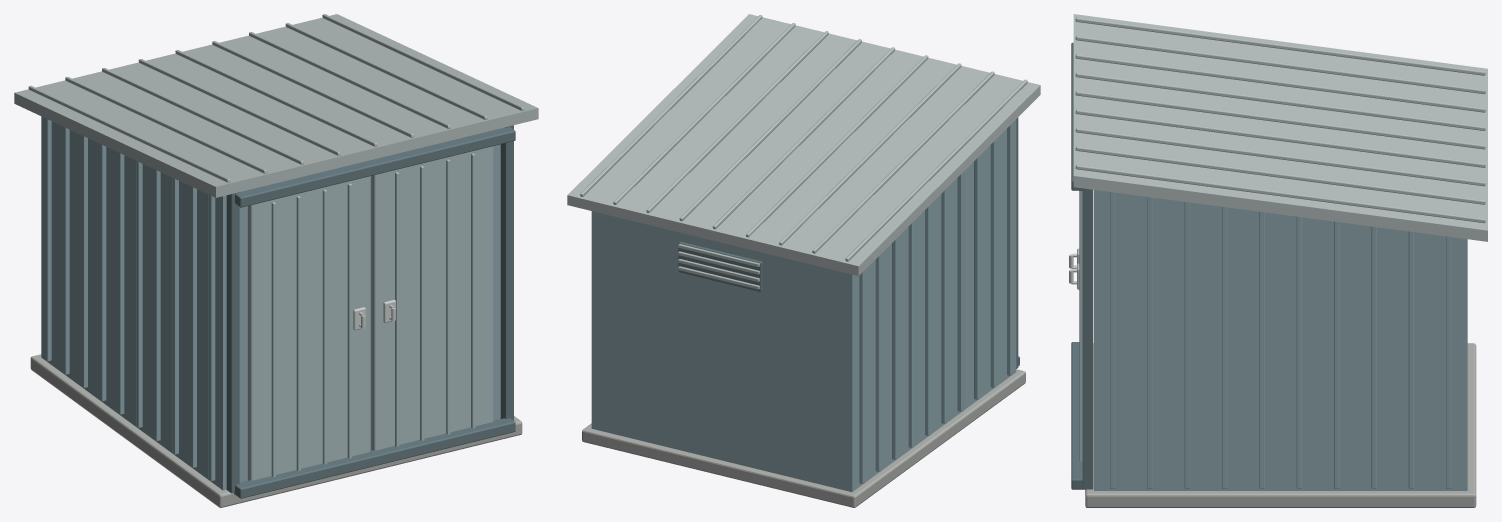
Rendered from shed_metal_pent_roof.glb.
3 views of the same model, side by side, from view 1: azimuth 30°, elevation 25°; view 2: azimuth 150°, elevation 25°; view 3: azimuth 270°, elevation 25° (orthographic). The views are drawn at different scales.
Visible parts, largest first — view 1: Single slope metal roof, Pent-roof shed walls, Sliding door panel.001, Sliding door panel, Compact base slab, Sliding door track.001, Sliding door track, Front corner trim, Front corner trim.001, Metal wall reinforcing rib, Metal wall reinforcing rib.006, Metal wall reinforcing rib.001 (+24 smaller); view 2: Pent-roof shed walls, Single slope metal roof, Compact base slab, Metal wall reinforcing rib.001, Metal wall reinforcing rib.003, Metal wall reinforcing rib.006, Rear high vent, Metal wall reinforcing rib.008, Metal wall reinforcing rib, Metal wall reinforcing rib.002, Metal wall reinforcing rib.004, Metal wall reinforcing rib.005 (+12 smaller); view 3: Pent-roof shed walls, Single slope metal roof, Compact base slab, Front corner trim.001, Standing roof seam.001, Standing roof seam.008, Standing roof seam.003, Standing roof seam.005, Standing roof seam.007, Standing roof seam, Standing roof seam.004, Standing roof seam.006 (+14 smaller).
Part boxes in pixels (left/top/right/bottom): Single slope metal roof: left=14, top=14, right=538, bottom=197; Pent-roof shed walls: left=41, top=116, right=500, bottom=490; Sliding door panel.001: left=371, top=146, right=493, bottom=450; Sliding door panel: left=247, top=176, right=369, bottom=480; Compact base slab: left=30, top=354, right=522, bottom=507; Sliding door track.001: left=235, top=127, right=515, bottom=207; Sliding door track: left=234, top=418, right=515, bottom=498; Front corner trim: left=226, top=192, right=239, bottom=493; Front corner trim.001: left=500, top=125, right=513, bottom=420; Metal wall reinforcing rib: left=208, top=195, right=215, bottom=481; Metal wall reinforcing rib.006: left=99, top=144, right=106, bottom=401; Metal wall reinforcing rib.001: left=190, top=186, right=196, bottom=467; Pent-roof shed walls: left=591, top=119, right=1016, bottom=491; Single slope metal roof: left=567, top=14, right=1040, bottom=275; Compact base slab: left=582, top=369, right=1025, bottom=507; Metal wall reinforcing rib.001: left=990, top=139, right=996, bottom=387; Metal wall reinforcing rib.003: left=957, top=172, right=963, bottom=411; Metal wall reinforcing rib.006: left=908, top=221, right=914, bottom=447; Rear high vent: left=678, top=241, right=762, bottom=291; Metal wall reinforcing rib.008: left=875, top=254, right=881, bottom=471; Metal wall reinforcing rib: left=1007, top=123, right=1012, bottom=375; Metal wall reinforcing rib.002: left=974, top=156, right=979, bottom=399; Metal wall reinforcing rib.004: left=941, top=188, right=946, bottom=423; Metal wall reinforcing rib.005: left=925, top=205, right=930, bottom=435; Pent-roof shed walls: left=1094, top=190, right=1467, bottom=490; Single slope metal roof: left=1073, top=14, right=1487, bottom=241; Compact base slab: left=1085, top=343, right=1476, bottom=507; Front corner trim.001: left=1082, top=188, right=1093, bottom=489; Standing roof seam.001: left=1075, top=35, right=1485, bottom=94; Standing roof seam.008: left=1075, top=164, right=1485, bottom=223; Standing roof seam.003: left=1075, top=72, right=1485, bottom=130; Standing roof seam.005: left=1075, top=109, right=1485, bottom=167; Standing roof seam.007: left=1075, top=146, right=1485, bottom=204; Standing roof seam: left=1075, top=17, right=1485, bottom=75; Standing roof seam.004: left=1075, top=91, right=1485, bottom=149; Standing roof seam.006: left=1075, top=127, right=1485, bottom=186.
Bounding box in the file's own units: 2.46 × 2.42 × 2.69.
